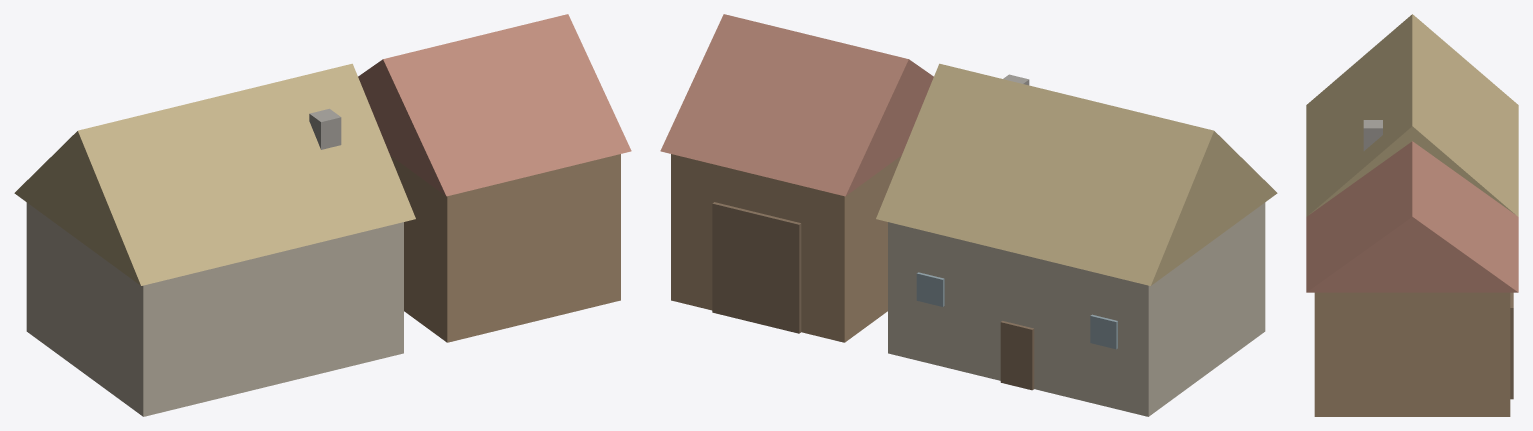
3 renders of one model, left to right at view 1: azimuth 30°, elevation 25°; view 2: azimuth 150°, elevation 25°; view 3: azimuth 270°, elevation 25°, orthographic. The views are drawn at different scales.
Visible parts, largest first — view 1: architecture.farmhouse; view 2: architecture.farmhouse; view 3: architecture.farmhouse.
Part boxes in pixels (x1,y1,x2,y2): architecture.farmhouse: (14, 14, 631, 416); architecture.farmhouse: (660, 14, 1277, 416); architecture.farmhouse: (1306, 14, 1518, 416).
Size of the model in its own units: 16.95 by 8.1 by 7.6.
